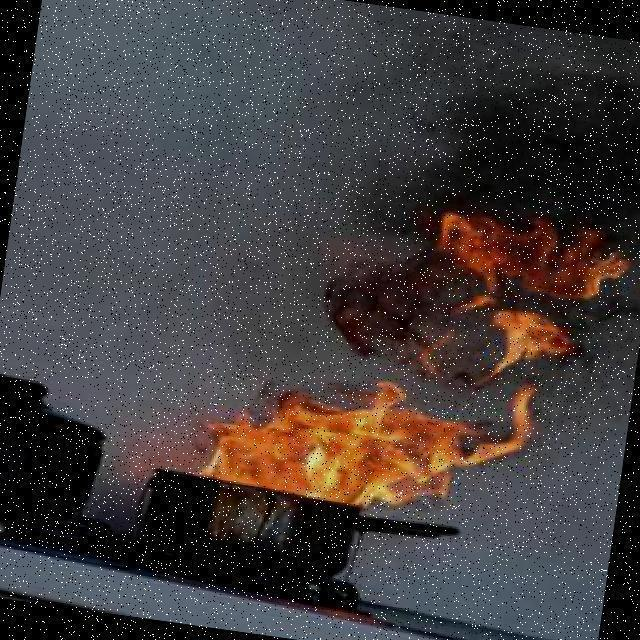Fire: (192, 354, 540, 526), (424, 200, 634, 380)
Smoke: (355, 10, 640, 257), (302, 235, 438, 369)
